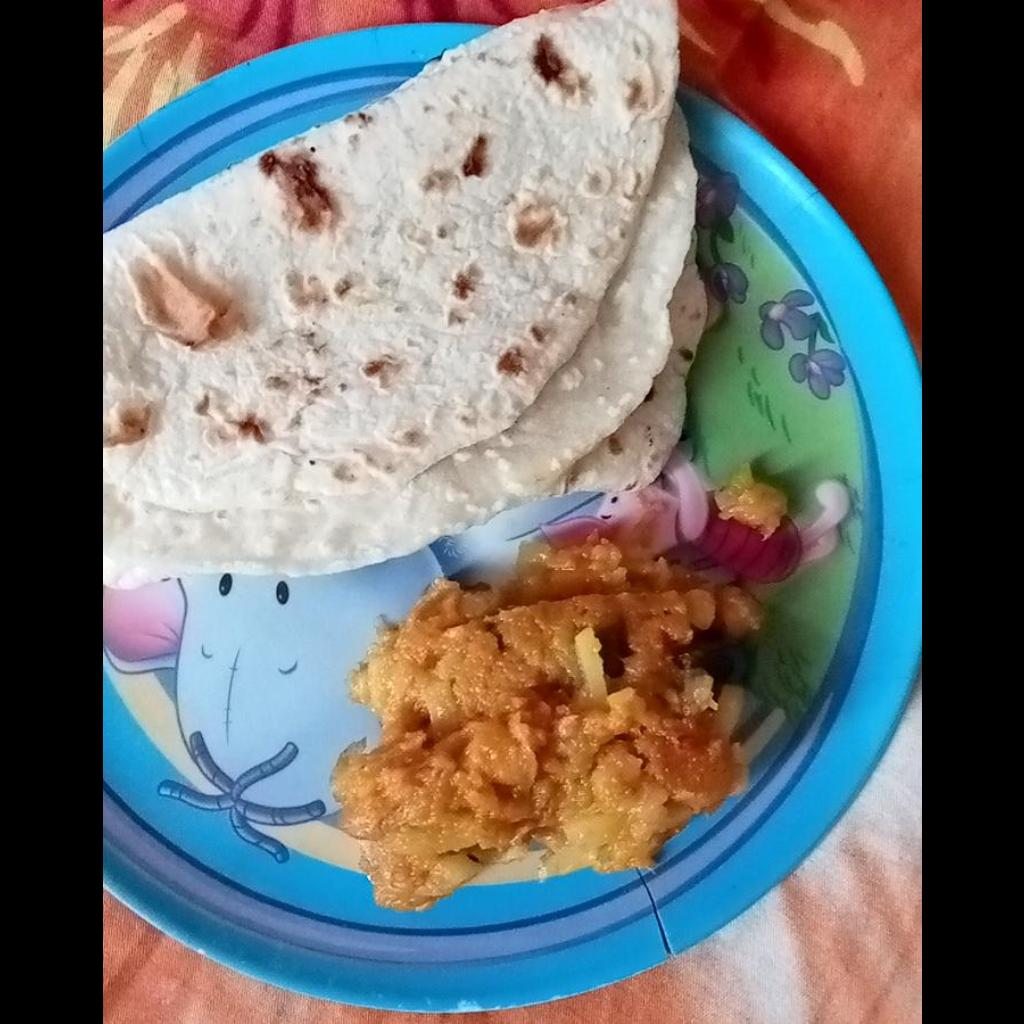ruti: (107, 0, 707, 597)
vegetable: (331, 539, 755, 913)
